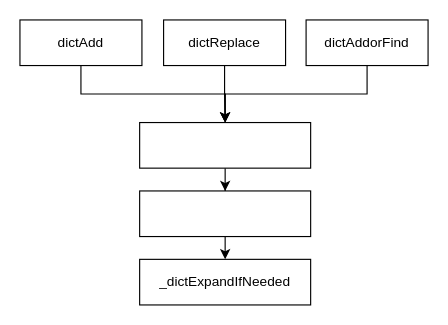
This 448x325 diagram has some shape labels left out. Here are the shapes that lost their labels. From the top down, the box of each, then its label:
(139, 121, 311, 168): dictAddRaw
(139, 190, 311, 237): _dictKeyIndex
